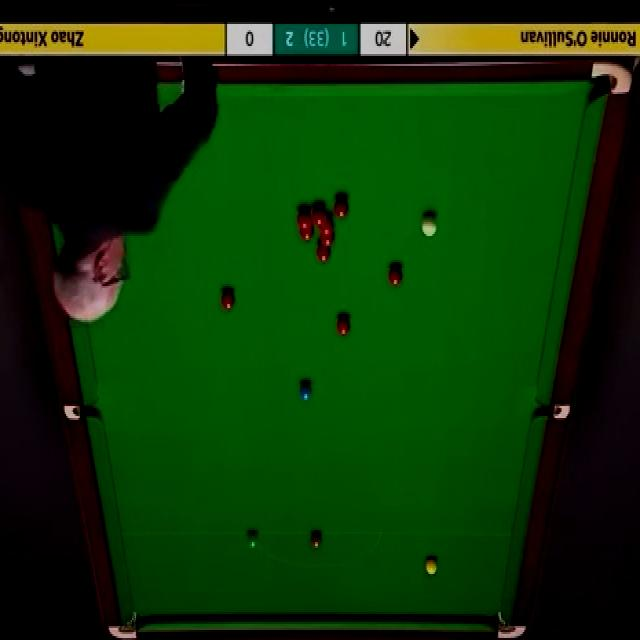blue-ball: (298, 381, 312, 402)
brown-ball: (310, 530, 324, 550)
green-ball: (244, 530, 260, 549)
red-ball: (220, 290, 237, 312), (319, 216, 335, 239), (336, 314, 351, 338), (388, 264, 403, 287), (296, 210, 311, 232), (317, 242, 331, 264), (333, 197, 347, 218), (320, 229, 336, 247), (312, 206, 326, 224), (300, 224, 314, 242)
white-ball: (421, 216, 437, 240)
yellow-ball: (426, 554, 438, 575)
